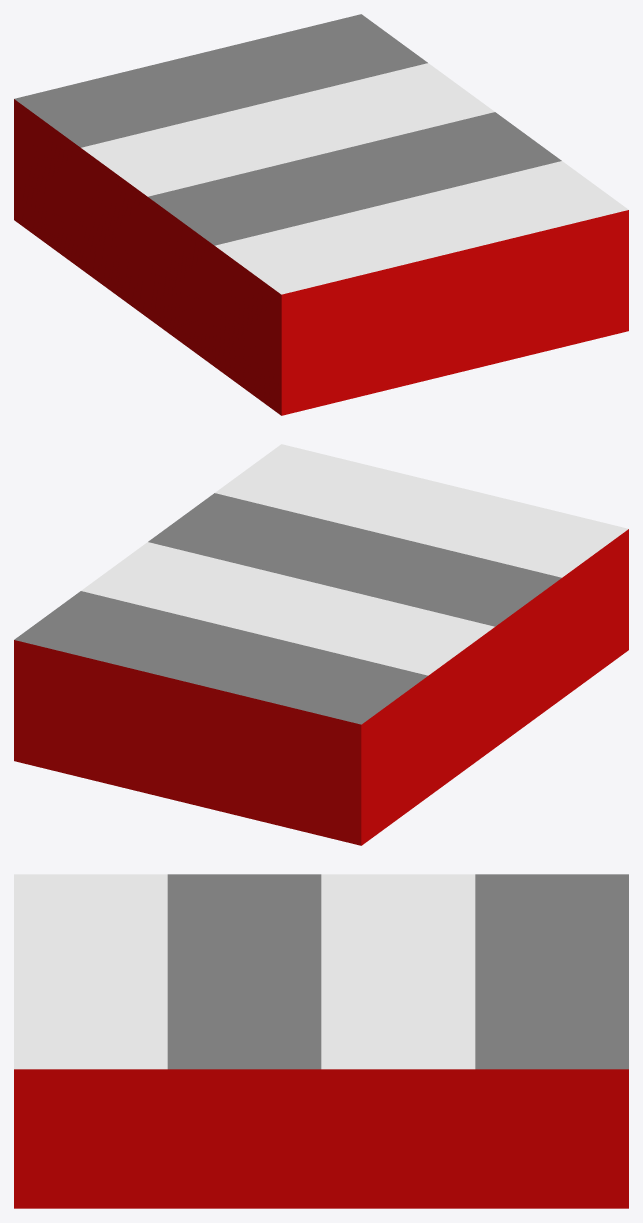
File: Track_Medium.fbx
3 views of the same model, one above another, from view 1: azimuth 30°, elevation 25°; view 2: azimuth 150°, elevation 25°; view 3: azimuth 270°, elevation 25° (orthographic). The views are drawn at different scales.
Visible parts, largest first — view 1: Track_Medium; view 2: Track_Medium; view 3: Track_Medium.
Boxes of the visible parts, left/top/right/bottom form: Track_Medium: left=14, top=14, right=628, bottom=415; Track_Medium: left=14, top=444, right=628, bottom=845; Track_Medium: left=14, top=874, right=628, bottom=1208.
Size of the model in its own units: 900 by 300 by 1200.
